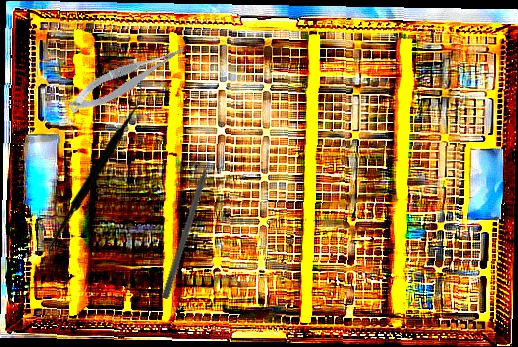Micro Scissor: (63, 41, 193, 117)
Pusher: (160, 145, 220, 300)
Spatula Surgical: (42, 85, 151, 265)
